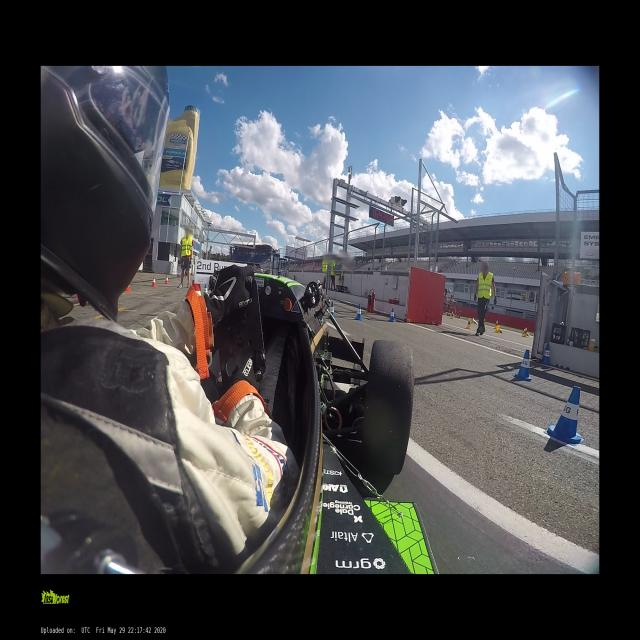blue_cone: (549, 387, 585, 444), (515, 350, 532, 381), (540, 344, 553, 366), (330, 302, 336, 321), (388, 308, 396, 322), (355, 305, 362, 321), (204, 284, 208, 296)
orange_cone: (152, 276, 156, 287), (164, 276, 168, 284)
yellow_cone: (521, 327, 528, 338), (496, 325, 503, 334), (466, 319, 472, 329), (495, 320, 498, 330), (450, 312, 454, 319)
